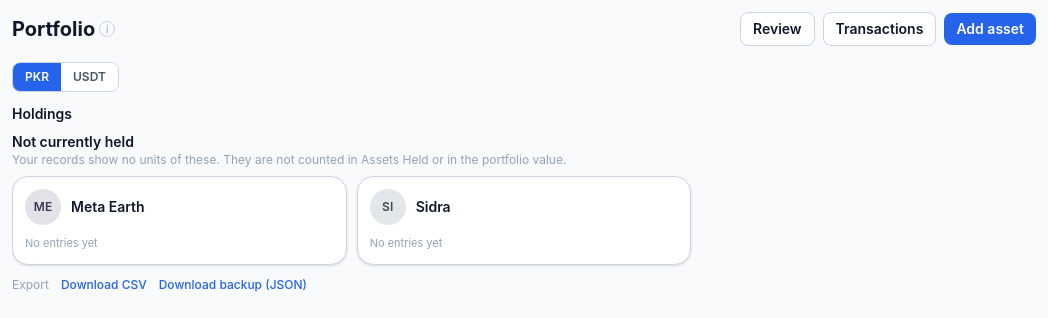
Scenario: All transactions › shows date, token, type, quantity, unit price, fee, total, source and status
Click the button "Transactions". click: click(880, 29)
box: top-left (823, 12), bottom-right (936, 46)
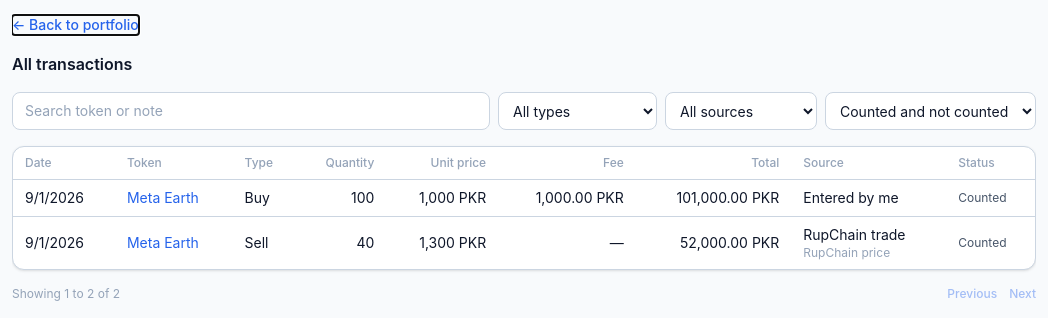
expect the 2nd row shows "Buy": met, box top-left (245, 189), bottom-right (270, 206)
expect the 2nd row shows "1,000 PKR": met, box top-left (419, 189), bottom-right (486, 206)
expect the 2nd row shows "1,000.00 PKR": met, box top-left (536, 189), bottom-right (624, 206)
